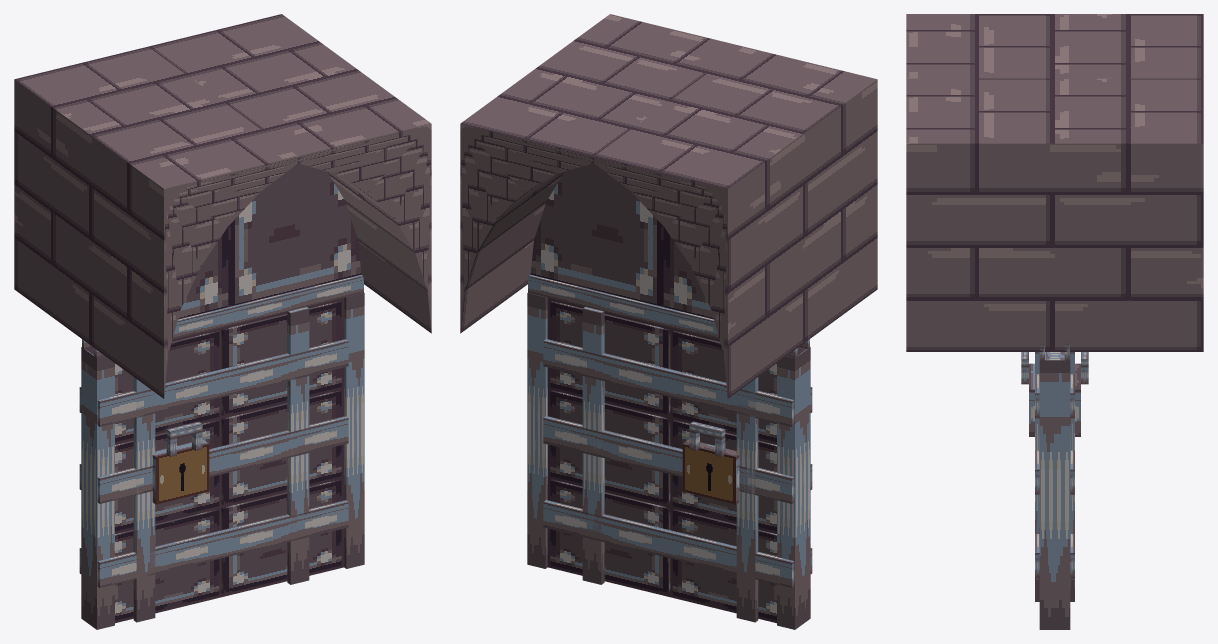
Rendered from door_locked.glb.
3 renders of one model, left to right at view 1: azimuth 30°, elevation 25°; view 2: azimuth 150°, elevation 25°; view 3: azimuth 270°, elevation 25°, orthographic.
Visible parts, largest first — view 1: portal, leaf, lock; view 2: portal, leaf, lock; view 3: portal, leaf, lock.
Part boxes in pixels (bbox=[...]): portal: bbox=[14, 14, 431, 629]; leaf: bbox=[79, 297, 348, 623]; lock: bbox=[152, 421, 209, 504]; portal: bbox=[460, 14, 877, 629]; leaf: bbox=[543, 297, 812, 623]; lock: bbox=[682, 421, 739, 504]; portal: bbox=[906, 14, 1203, 629]; leaf: bbox=[1035, 352, 1074, 601]; lock: bbox=[1021, 352, 1088, 436].
Size of the model in its own units: 2 by 3.5 by 1.94.
Materials: 1 (1 with a texture image).
